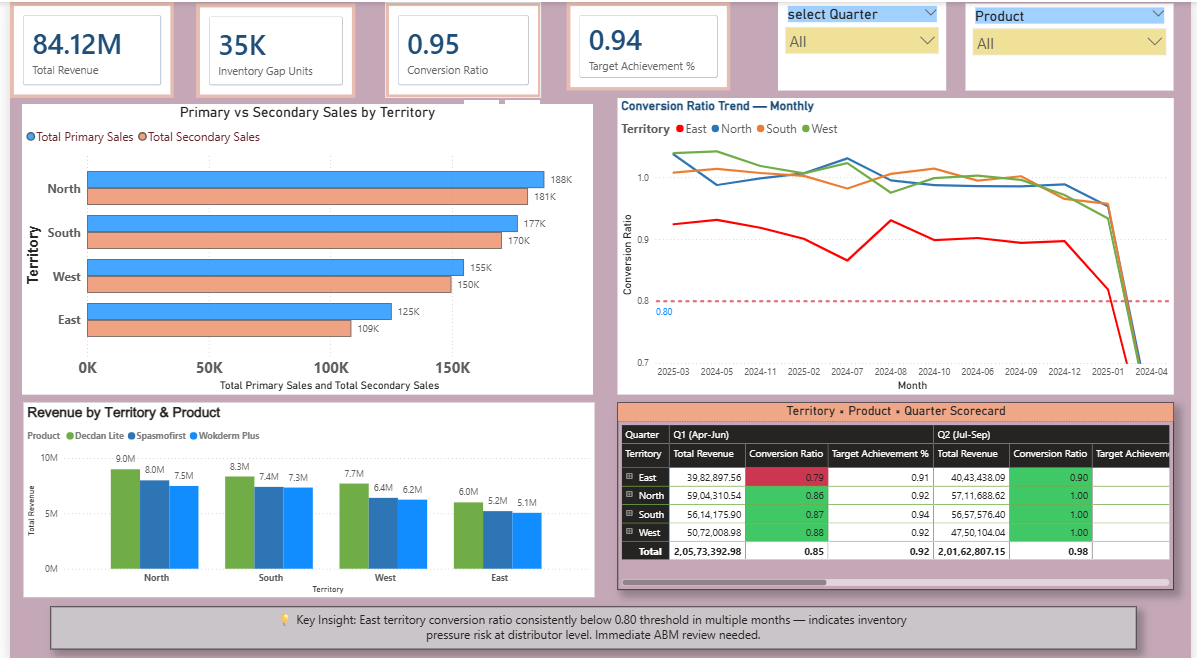

The page's visual inventory and layout, read from the dashboard file:
{"tool":"powerbi","page":{"name":"Territory Analysis","canvas":[1600,900],"ordinal":1},"visuals":[{"type":"cardVisual","fields":{"Data":["pharma_sales.Conversion Ratio"]},"box":[508,0,212,130],"z":0},{"type":"cardVisual","fields":{"Data":["pharma_sales.Target Achievement %"]},"box":[754,0,222,120],"z":1000},{"type":"cardVisual","fields":{"Data":["pharma_sales.Total Revenue"]},"box":[0,0,222,130],"z":2000},{"type":"slicer","fields":{"Values":["pharma_sales.Quarter"]},"box":[1040,0,228,120],"z":3000},{"type":"slicer","fields":{"Values":["pharma_sales.Product"]},"box":[1296,2,282,118],"z":4000},{"type":"clusteredBarChart","title":"Primary vs Secondary Sales by Territory","fields":{"Category":["pharma_sales.Territory"],"Y":["pharma_sales.Total Primary Sales","pharma_sales.Total Secondary Sales"]},"box":[16,138,774,394],"z":5000},{"type":"lineChart","title":"Conversion Ratio Trend — Monthly","fields":{"Category":["pharma_sales.Month"],"Y":["pharma_sales.Conversion Ratio"],"Series":["pharma_sales.Territory"]},"box":[824,130,754,402],"z":6000},{"type":"clusteredColumnChart","title":"Revenue by Territory & Product","fields":{"Category":["pharma_sales.Territory"],"Y":["pharma_sales.Total Revenue"],"Series":["pharma_sales.Product"]},"box":[18,542,774,264],"z":7000},{"type":"pivotTable","title":"Territory × Product × Quarter Scorecard","fields":{"Rows":["pharma_sales.Territory","pharma_sales.Product"],"Columns":["pharma_sales.Quarter"],"Values":["pharma_sales.Total Revenue","pharma_sales.Conversion Ratio","pharma_sales.Target Achievement %"]},"box":[824,542,754,254],"z":8000},{"type":"cardVisual","fields":{"Data":["pharma_sales.Inventory Gap Units"]},"box":[252,2,216,128],"z":9000},{"type":"textbox","box":[54,820,1472,58],"z":10000}]}

Visuals, with their boxes in screenshot pixels (x1, y1, x2, y2), scaled from the page's 1600x900 canvas onto the 1197x658 screenshot:
cardVisual - pharma_sales.Conversion Ratio: <bbox>380, 0, 539, 95</bbox>
cardVisual - pharma_sales.Target Achievement %: <bbox>564, 0, 730, 88</bbox>
cardVisual - pharma_sales.Total Revenue: <bbox>0, 0, 166, 95</bbox>
slicer - pharma_sales.Quarter: <bbox>778, 0, 949, 88</bbox>
slicer - pharma_sales.Product: <bbox>970, 1, 1181, 88</bbox>
"Primary vs Secondary Sales by Territory" clusteredBarChart: <bbox>12, 101, 591, 389</bbox>
"Conversion Ratio Trend — Monthly" lineChart: <bbox>616, 95, 1181, 389</bbox>
"Revenue by Territory & Product" clusteredColumnChart: <bbox>13, 396, 593, 589</bbox>
"Territory × Product × Quarter Scorecard" pivotTable: <bbox>616, 396, 1181, 582</bbox>
cardVisual - pharma_sales.Inventory Gap Units: <bbox>189, 1, 350, 95</bbox>
textbox: <bbox>40, 600, 1142, 642</bbox>
